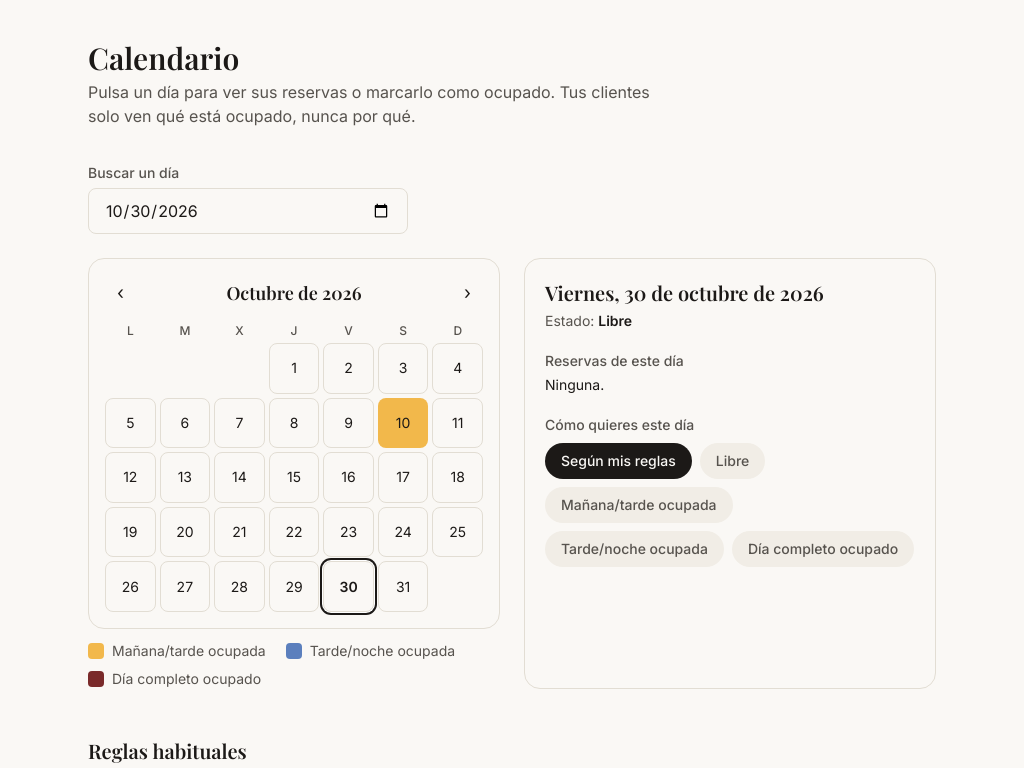
Scenario: Calendario del panel › pinta el mes, y al pulsar un día muestra sus reservas sin las canceladas
Click the button "10". click: (403, 423)
box: [378,398,428,448]
(page scrolled)
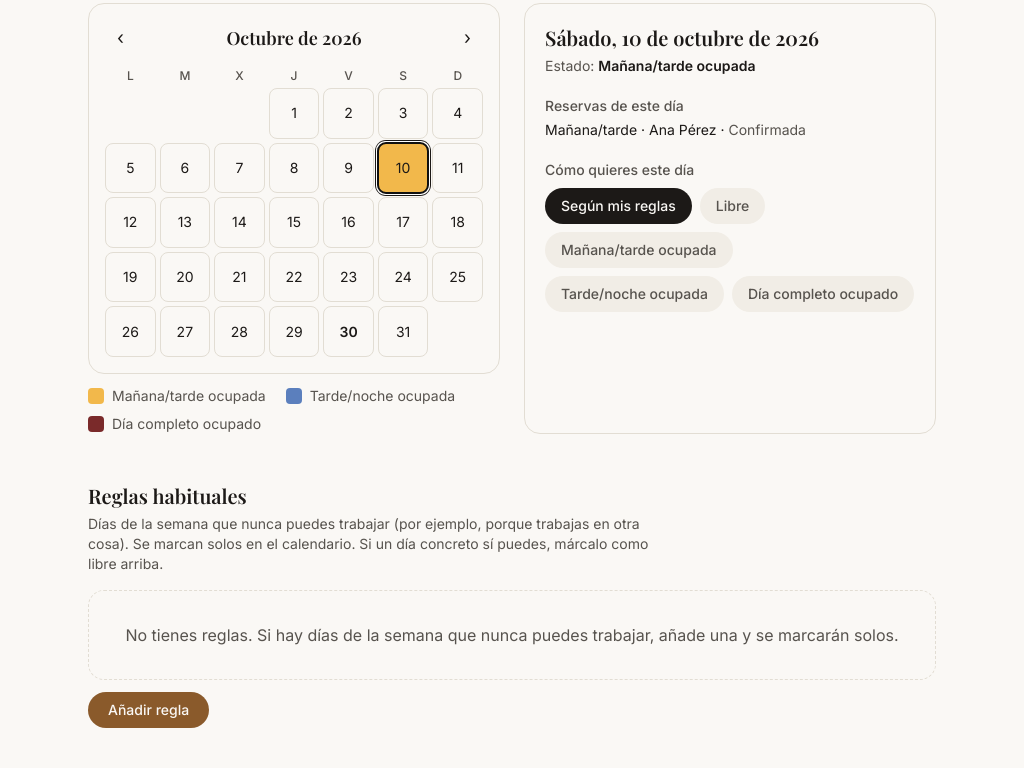
Expected: the text "No tienes reglas" is shown, [125,625,898,645]
Now the list item "Mañana/tarde · Ana Pérez · Confirmada" is shown, box [545,121,806,138]
